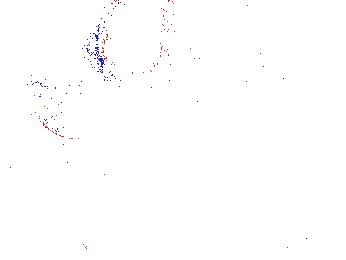moon jellyfish: (146, 1, 264, 111), (96, 1, 188, 83), (247, 1, 346, 57), (27, 82, 118, 141)
